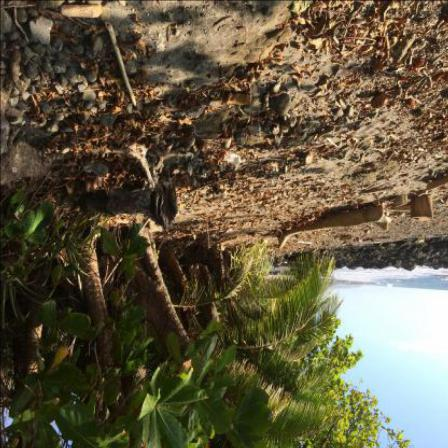Bottle: (224, 151, 241, 167)
Bottle cap: (224, 153, 226, 156)
